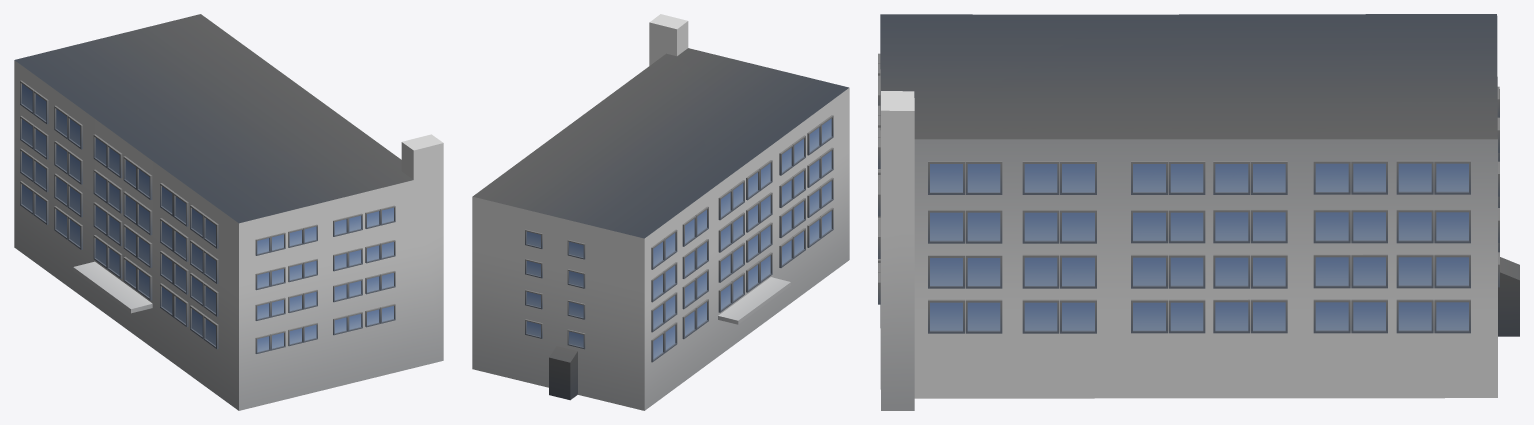
File: talvikki_lehdokkitie.fbx
3 views of the same model, side by side, from view 1: azimuth 30°, elevation 25°; view 2: azimuth 150°, elevation 25°; view 3: azimuth 270°, elevation 25° (orthographic). The views are drawn at different scales.
Visible parts, largest first — view 1: talvikki_lehdokkitie3; view 2: talvikki_lehdokkitie3; view 3: talvikki_lehdokkitie3.
Boxes of the visible parts, x1,y1,x2,y2 form: talvikki_lehdokkitie3: (14,14,443,410); talvikki_lehdokkitie3: (472,14,849,410); talvikki_lehdokkitie3: (878,14,1519,410).
Size of the model in its own units: 52.24 by 47.8 by 92.61.
